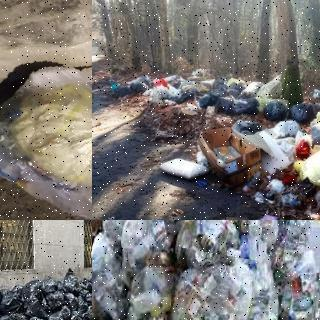Garbage: (0, 43, 92, 220), (168, 250, 254, 320), (123, 247, 178, 320), (115, 220, 181, 276), (177, 220, 241, 274), (92, 230, 130, 320), (277, 242, 320, 320), (272, 220, 315, 249), (293, 144, 320, 181), (20, 277, 43, 304), (286, 101, 315, 122), (260, 98, 287, 120), (230, 97, 259, 115), (62, 270, 82, 294), (126, 75, 152, 90), (211, 95, 232, 113), (47, 309, 68, 320), (68, 311, 89, 320)
